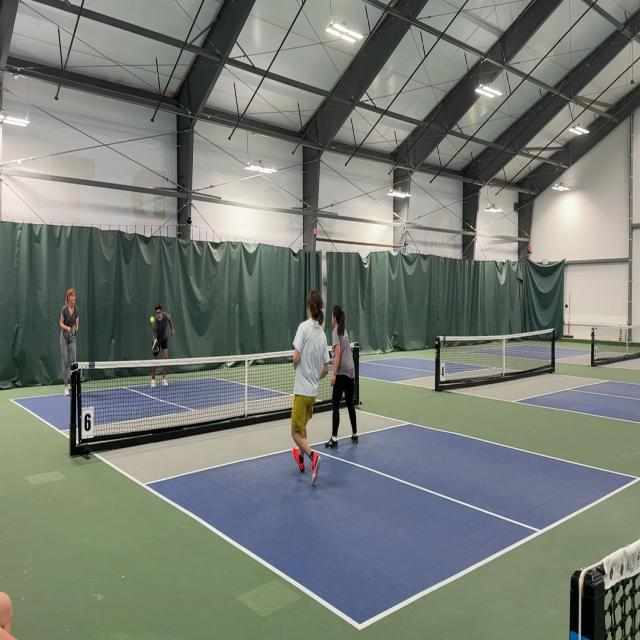ball: (150, 316, 155, 324)
